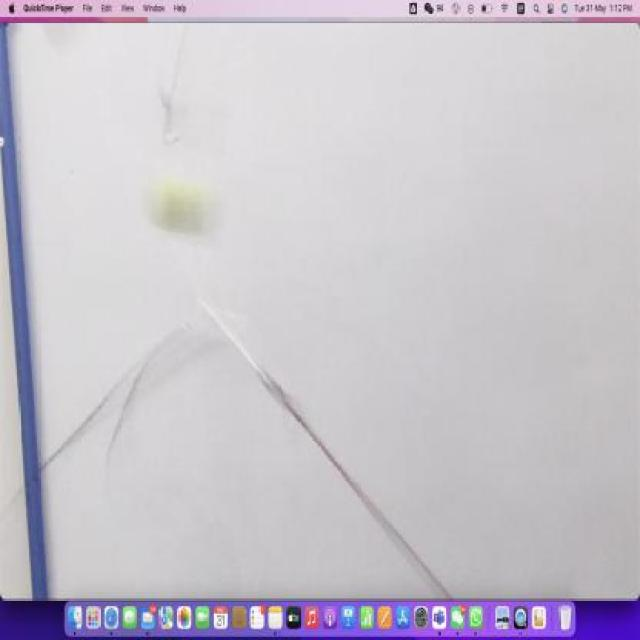baseball: (142, 172, 216, 238)
